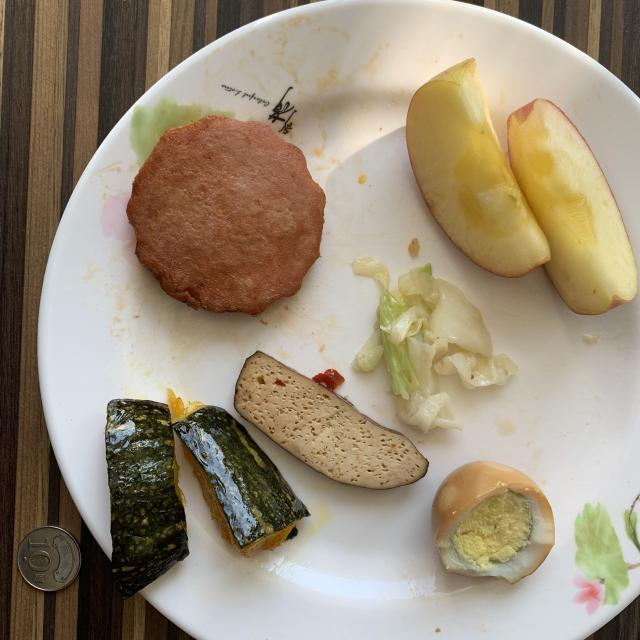Spam: (126, 115, 325, 316)
apple -sliced-: (406, 59, 638, 314)
cabbage: (351, 256, 519, 432)
coin: (18, 526, 81, 591)
firm tofu: (234, 351, 429, 490)
pumpkin: (105, 399, 309, 598)
soy egg: (431, 461, 554, 584)
